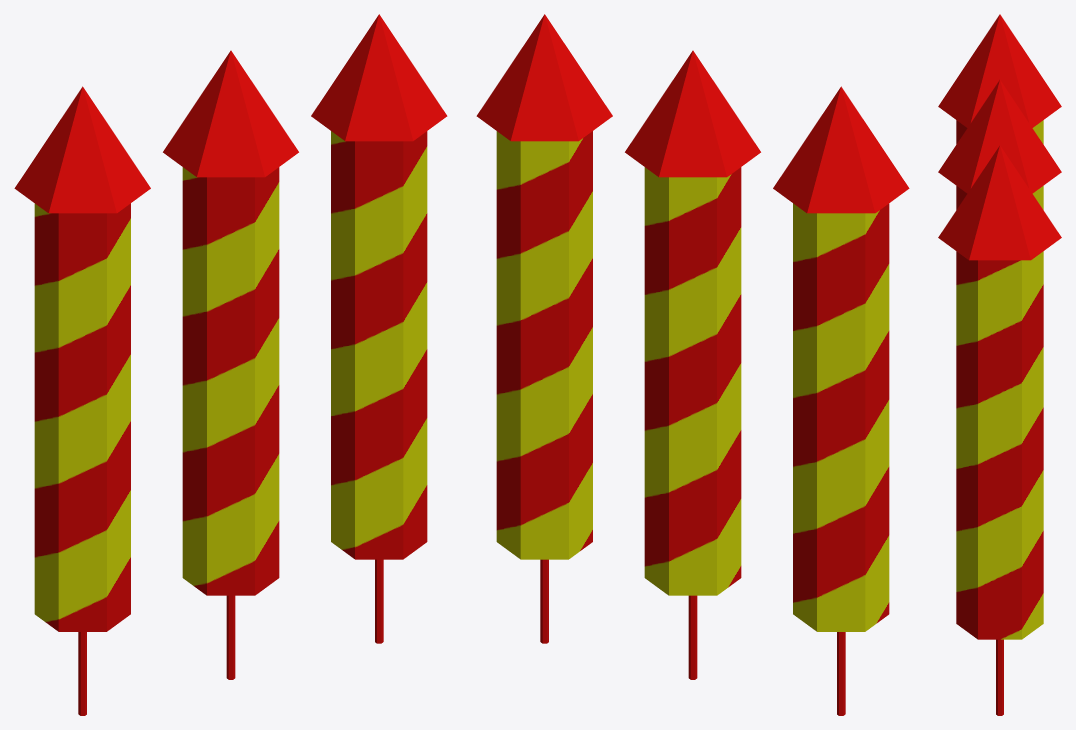
File: Fireworks_3xProjectile.fbx
3 renders of one model, left to right at view 1: azimuth 30°, elevation 25°; view 2: azimuth 150°, elevation 25°; view 3: azimuth 270°, elevation 25°, orthographic. The views are drawn at different scales.
Parts seen in each view (by area): view 1: fireworks.002, fireworks.003, fireworks.001; view 2: fireworks.002, fireworks.003, fireworks.001; view 3: fireworks.003, fireworks.002, fireworks.001.
Part boxes in pixels (x1,y1,x2,y2): fireworks.002: [163, 50, 298, 679]; fireworks.003: [311, 14, 447, 643]; fireworks.001: [14, 86, 150, 715]; fireworks.002: [625, 50, 760, 679]; fireworks.003: [476, 14, 612, 643]; fireworks.001: [773, 86, 909, 715]; fireworks.003: [938, 145, 1061, 715]; fireworks.002: [938, 80, 1061, 209]; fireworks.001: [938, 14, 1061, 144].
Size of the model in its own units: 43.74 by 65.82 by 12.97.
